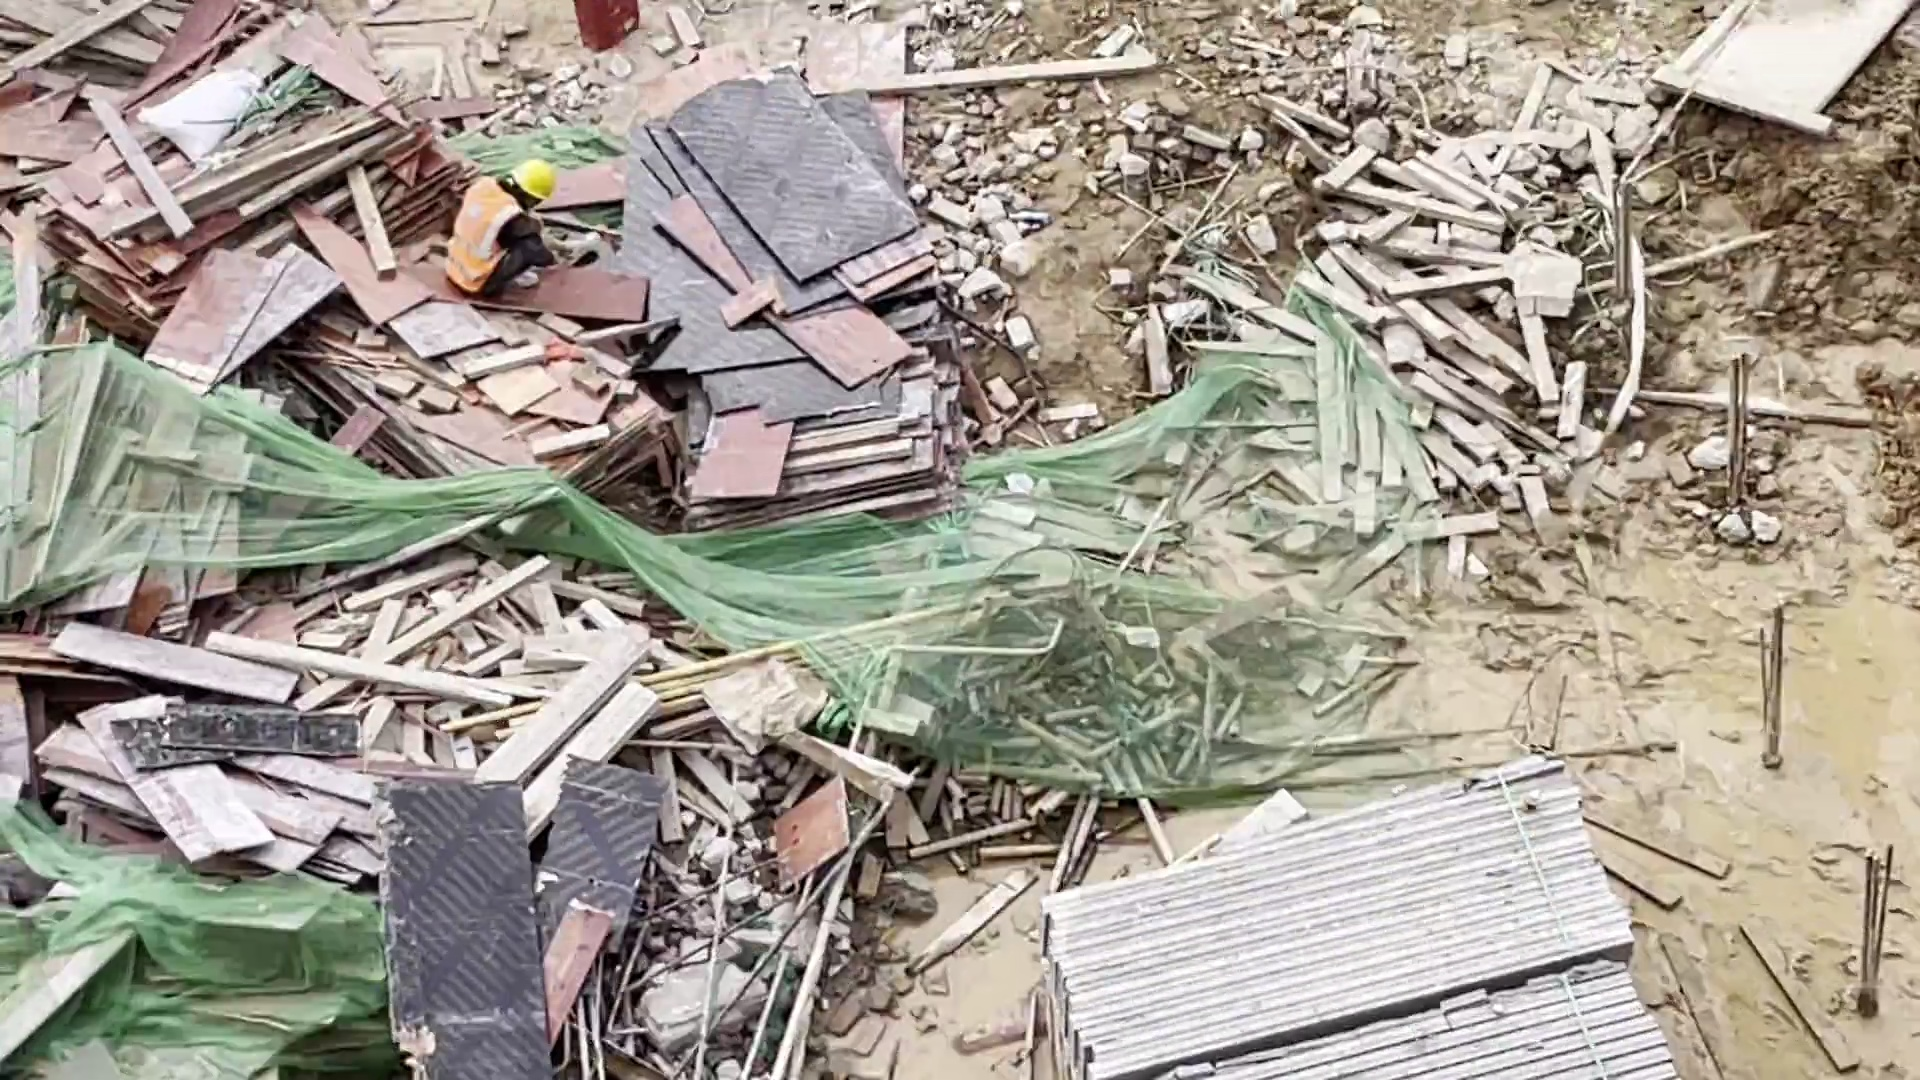board: (625, 101, 930, 505)
helmet: (505, 158, 557, 199)
person: (447, 161, 560, 300)
vest: (448, 176, 510, 289)
